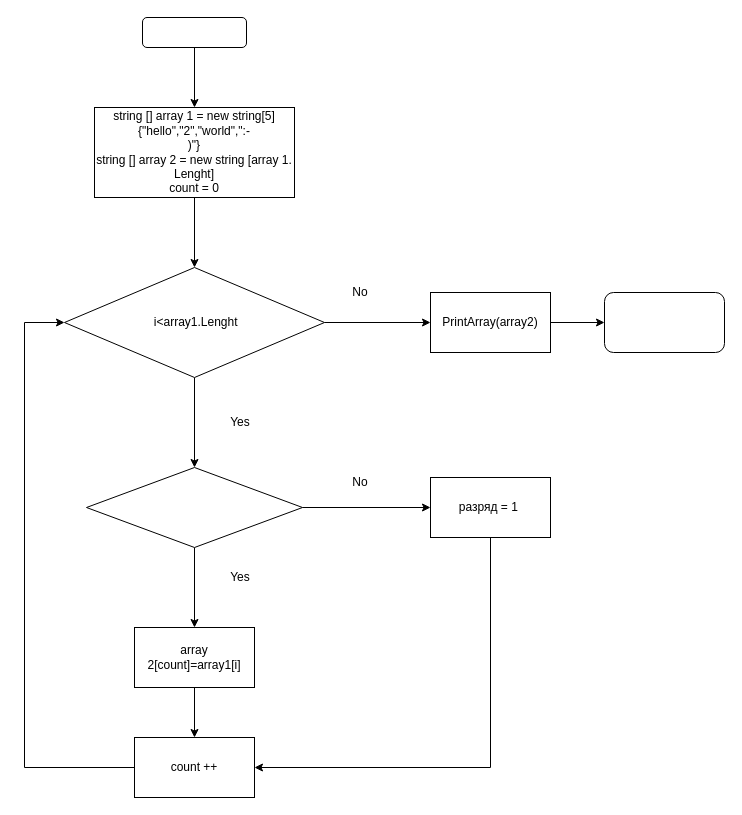
This 742x815 diagram has some shape labels left out. Here are the shapes that lost their labels. From the top down, the box of each, then its label:
(142, 16, 246, 48): Start
(604, 292, 724, 352): End
(86, 466, 302, 548): array [i] Lenght<=3
